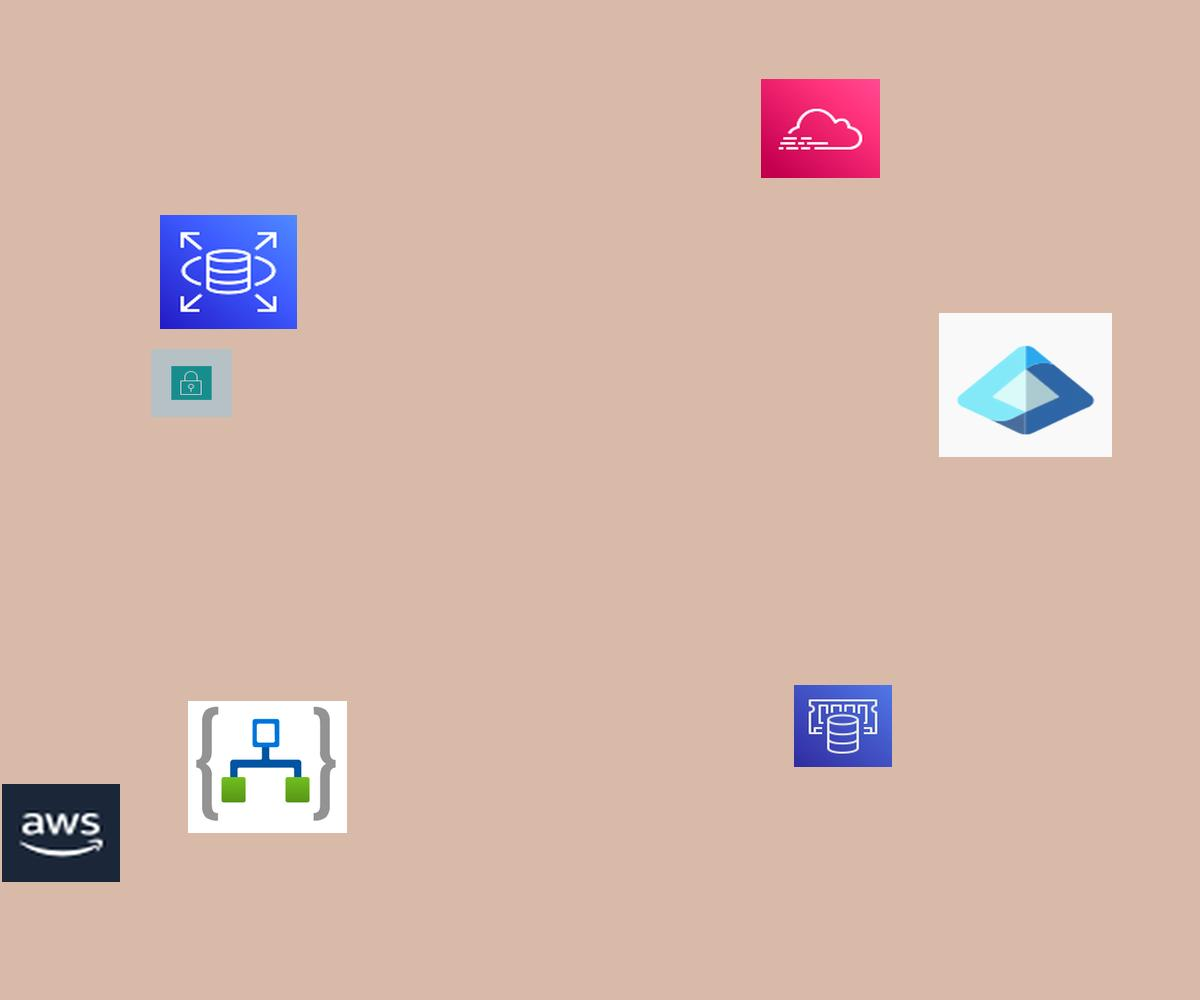AWS-Cloud-logo: (2, 784, 120, 882)
AWS-CloudTrail: (761, 79, 880, 178)
AWS-ElastiCache: (794, 685, 892, 767)
AWS-Private-subnet: (151, 349, 232, 417)
AWS-RDS: (160, 215, 297, 329)
Azure_integration-204-Logic-Apps: (188, 701, 347, 833)
Azure_microsoft_entra: (939, 313, 1112, 457)
